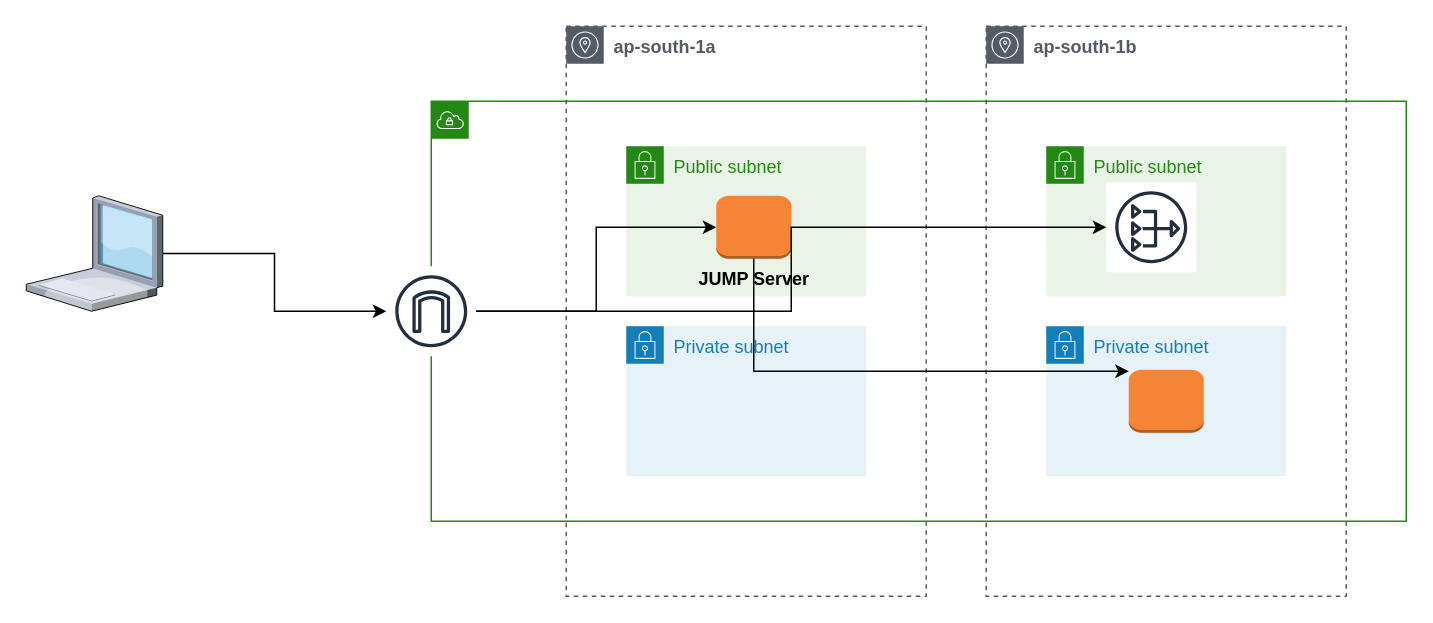
This 1433x623 diagram has some shape labels left out. Here are the shapes that lost their labels. From the top down, the box of each, then its label:
(1105, 181, 1196, 272): NAT gateway
(385, 265, 476, 356): Internet gateway
(430, 100, 1406, 521): VPC
(1127, 368, 1204, 433): WEB Server
